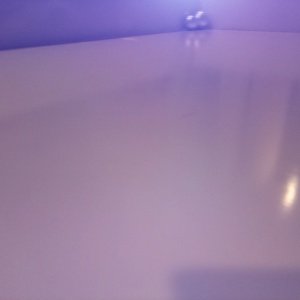alive_ball: (192, 10, 208, 29), (183, 15, 197, 30)
